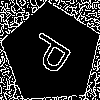P: (26, 29, 81, 82)
